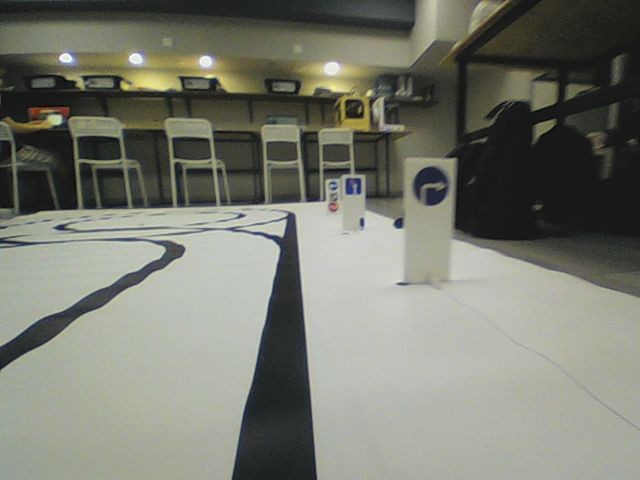Right: (411, 165, 449, 207)
priority_movement: (344, 177, 362, 195)
